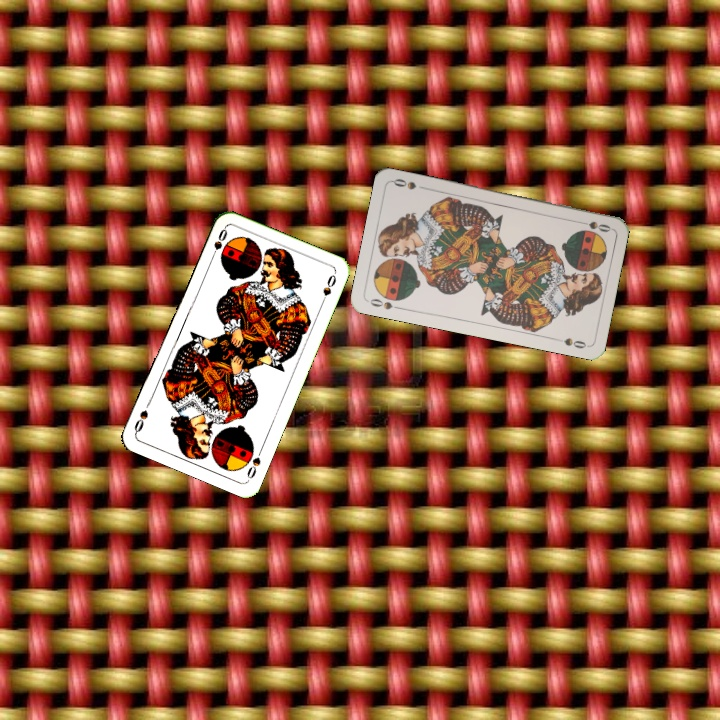SO: (206, 224, 230, 263), (243, 444, 266, 483), (573, 216, 613, 235), (366, 295, 405, 312)
